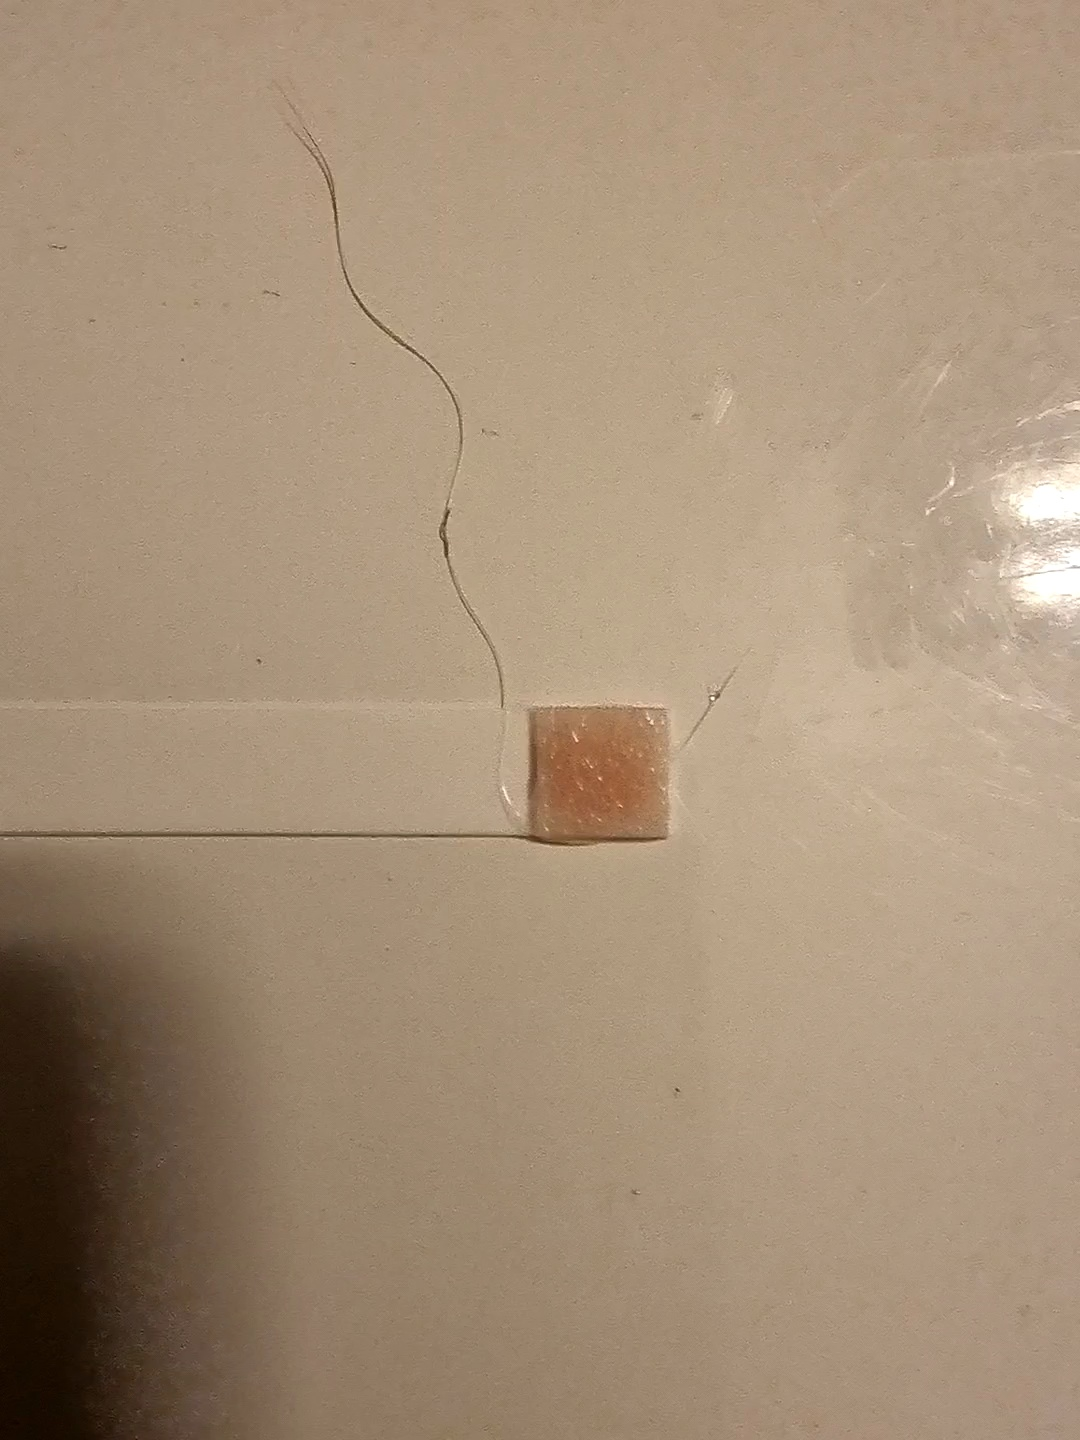keto-tip: (518, 693, 677, 855)
